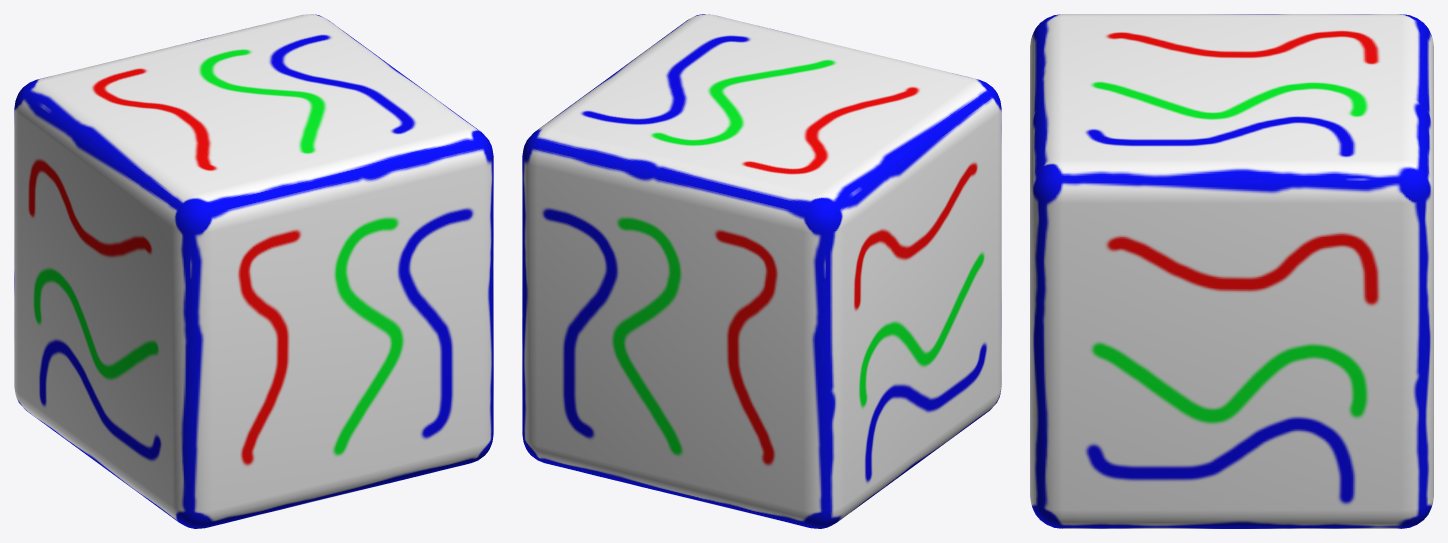
The picture shows the model from 3 angles, left to right: view 1: azimuth 30°, elevation 25°; view 2: azimuth 150°, elevation 25°; view 3: azimuth 270°, elevation 25°; orthographic projection. The views are drawn at different scales.
Parts seen in each view (by area): view 1: Cube; view 2: Cube; view 3: Cube.
Part boxes in pixels (left/top/right/bottom): Cube: left=14, top=14, right=493, bottom=528; Cube: left=522, top=14, right=1001, bottom=528; Cube: left=1030, top=14, right=1433, bottom=528.
Bounding box in the file's own units: 200 × 200 × 200.
